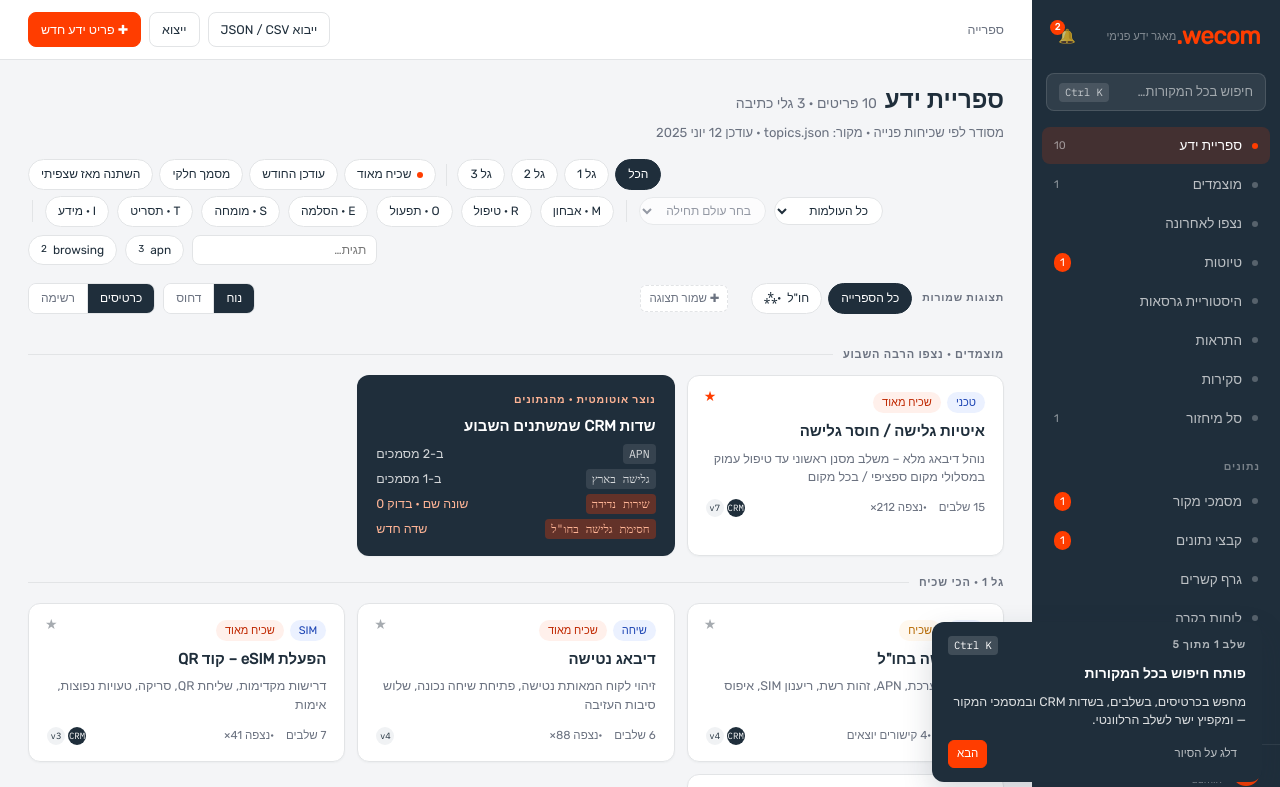
Scenario: palette · the three-character floor › sends nothing to the server for a two-character Hebrew query
This screenshot has width=1280, height=787.
Type keys "{Control>}k{/Control}"
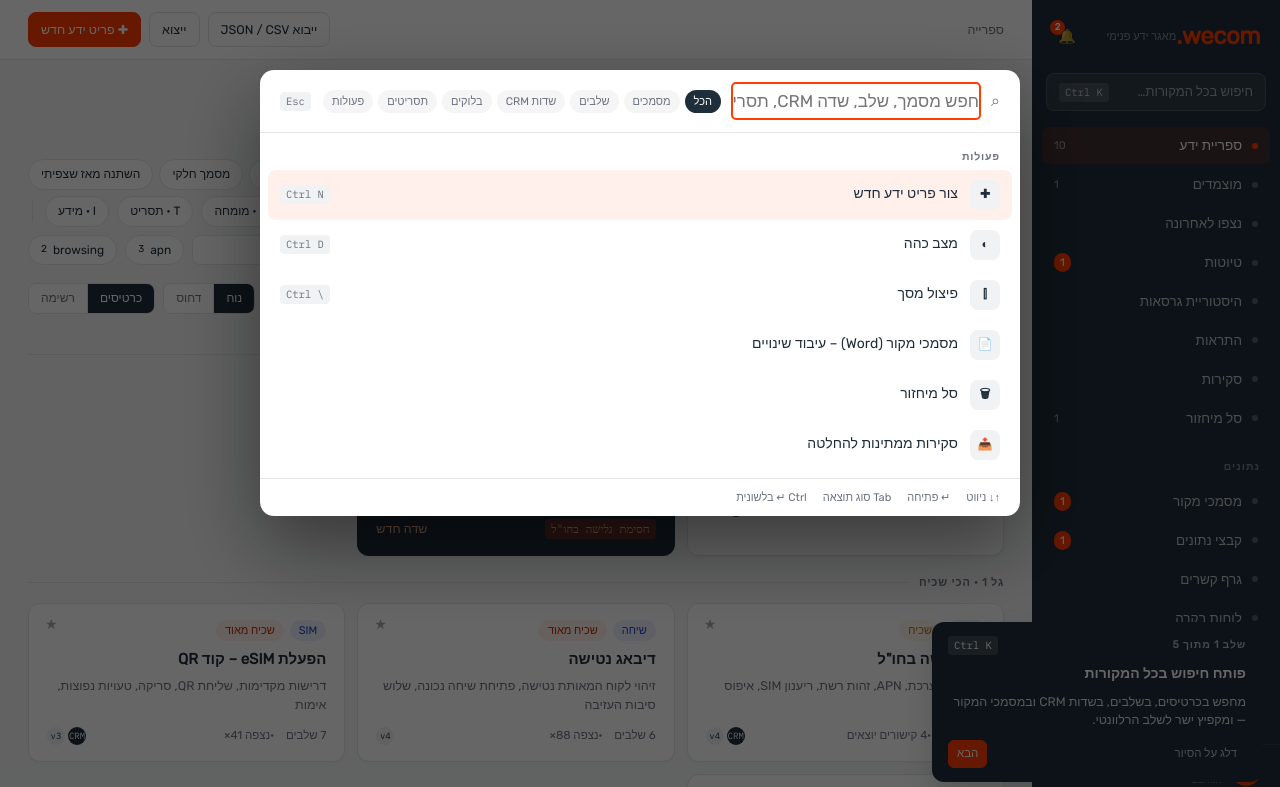
Type "חב" into the field with placeholder "חפש מסמך, שלב, שדה CRM, תסריט או פעולה…".
click(856, 101); type("חב")  # box [733,84,979,118]
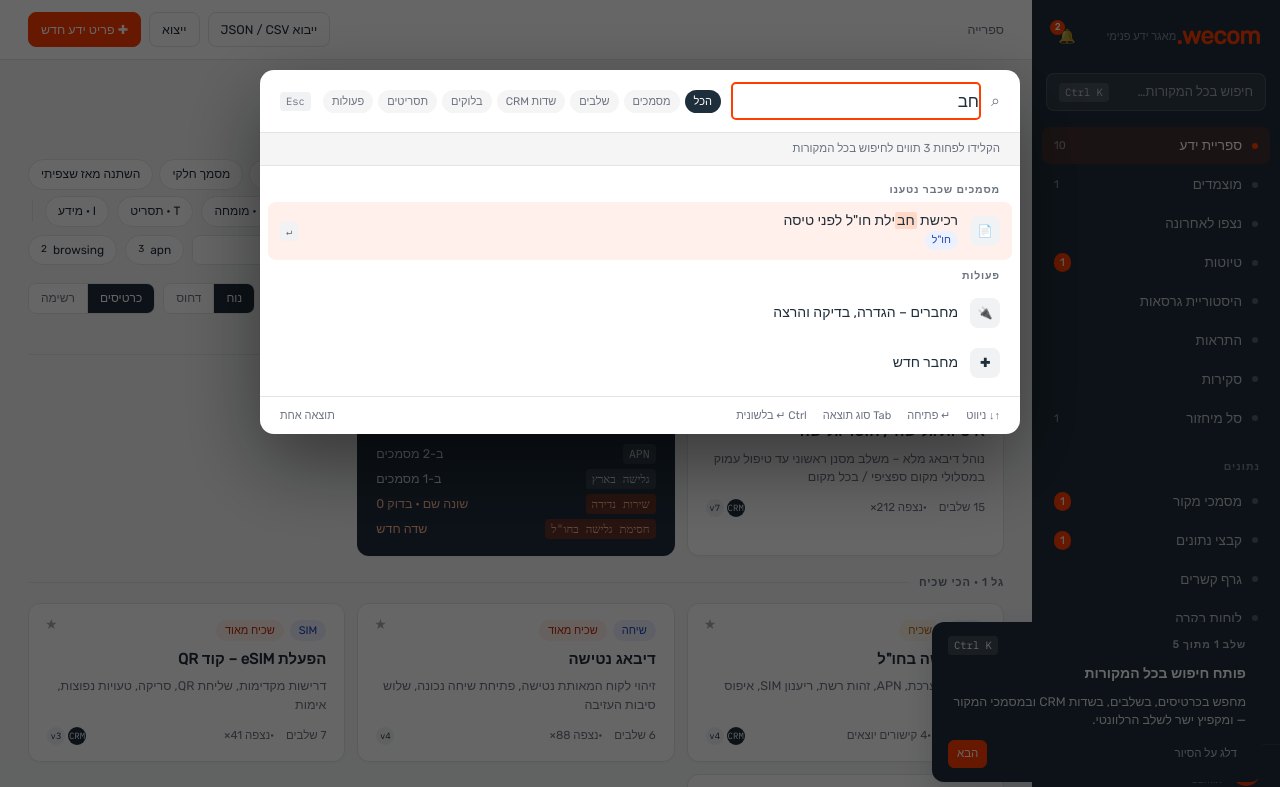
Result: the text "הקלידו לפחות 3 תווים לחיפוש בכל המקורות" is shown at [260,133,1020,166]
